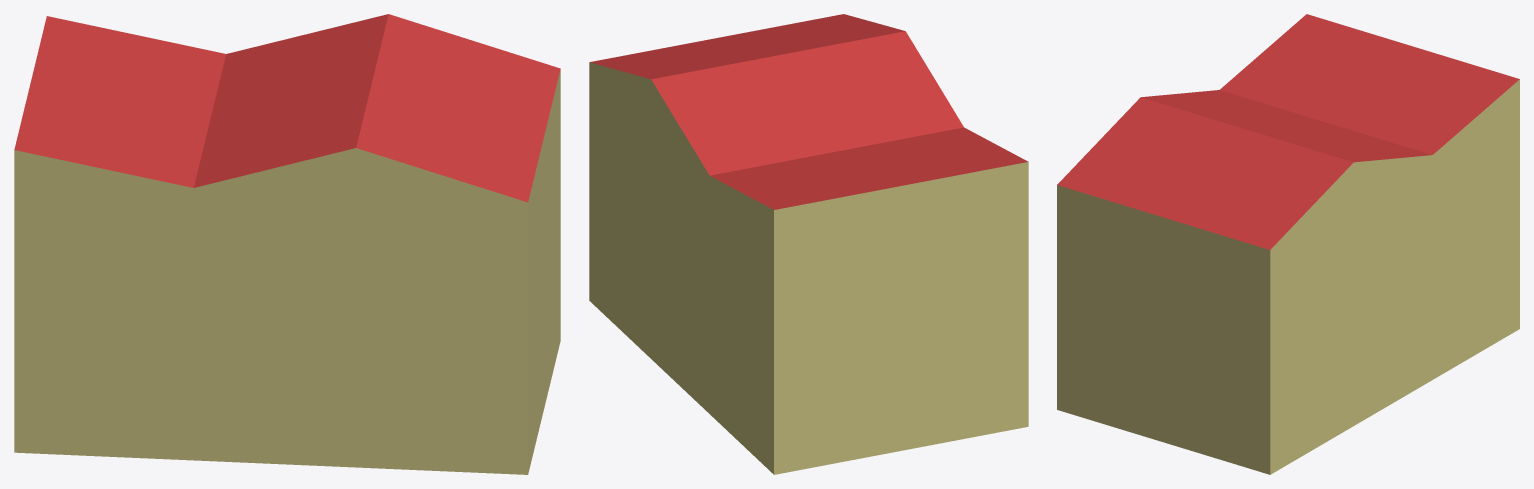
3 renders of one model, left to right at view 1: azimuth 30°, elevation 25°; view 2: azimuth 150°, elevation 25°; view 3: azimuth 270°, elevation 25°, orthographic. The views are drawn at different scales.
Size of the model in its own units: 10.83 by 10.03 by 6.31.
